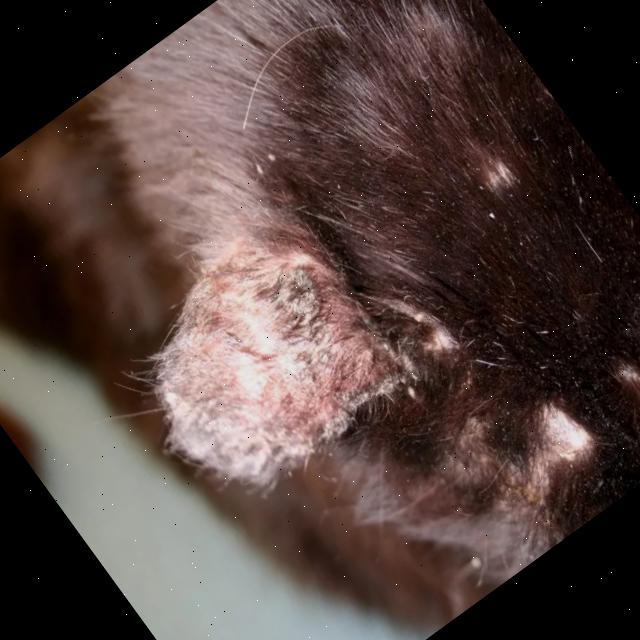cat-hairloss: (84, 199, 436, 541)
